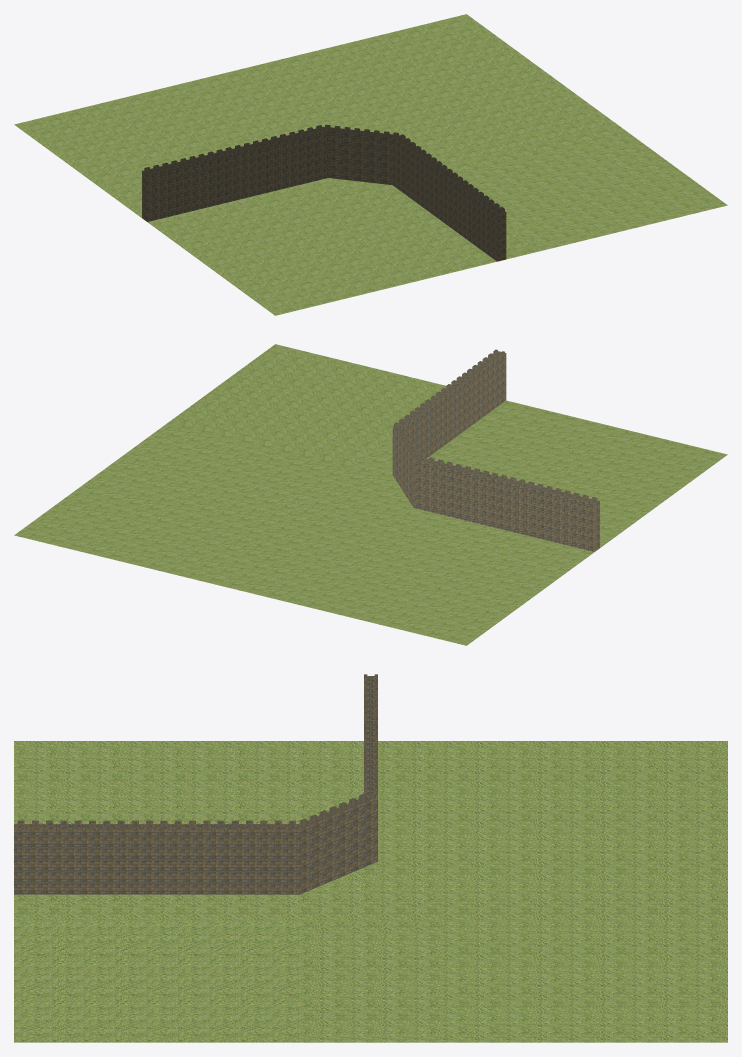
File: map50GBNE.fbx
The picture shows the model from 3 angles, top to bottom: view 1: azimuth 30°, elevation 25°; view 2: azimuth 150°, elevation 25°; view 3: azimuth 270°, elevation 25°; orthographic projection. The views are drawn at different scales.
Visible parts, largest first — view 1: map50GBNE:Layer1, map50GBNE:Layer2, map50GBNE:Layer3; view 2: map50GBNE:Layer1, map50GBNE:Layer2, map50GBNE:Layer3; view 3: map50GBNE:Layer1, map50GBNE:Layer2, map50GBNE:Layer3.
Part boxes in pixels (<box>): map50GBNE:Layer1: <box>14,14,727,315</box>; map50GBNE:Layer2: <box>142,126,506,261</box>; map50GBNE:Layer3: <box>144,125,504,213</box>; map50GBNE:Layer1: <box>14,344,727,645</box>; map50GBNE:Layer2: <box>392,351,599,551</box>; map50GBNE:Layer3: <box>394,349,597,503</box>; map50GBNE:Layer1: <box>14,741,727,1042</box>; map50GBNE:Layer2: <box>14,676,377,894</box>; map50GBNE:Layer3: <box>17,674,377,829</box>.
Size of the model in its own units: 1 by 0.105 by 1.
2 materials, 2 textured.
